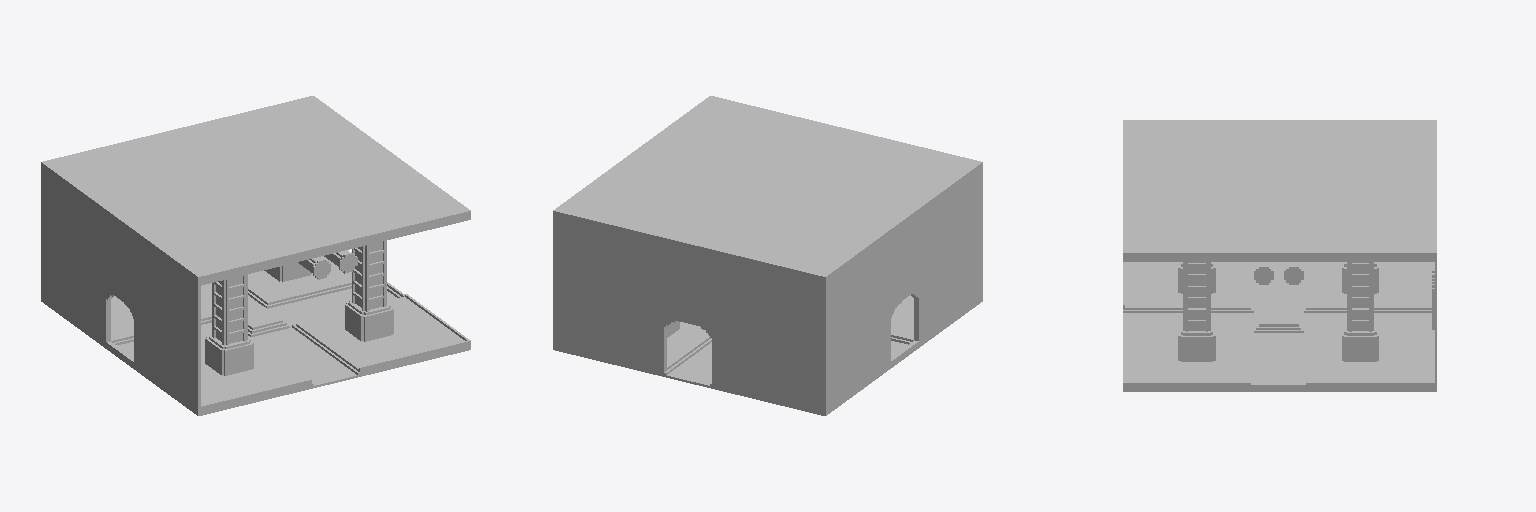
File: Perk Room.obj
3 views of the same model, side by side, from view 1: azimuth 30°, elevation 25°; view 2: azimuth 150°, elevation 25°; view 3: azimuth 270°, elevation 25° (orthographic).
Parts seen in each view (by area): view 1: object 1; view 2: object 1; view 3: object 1.
Boxes of the visible parts, <box> form: object 1: <box>41,96,470,415</box>; object 1: <box>553,96,982,415</box>; object 1: <box>1123,120,1436,391</box>.
Size of the model in its own units: 12.5 by 6.1 by 12.5.